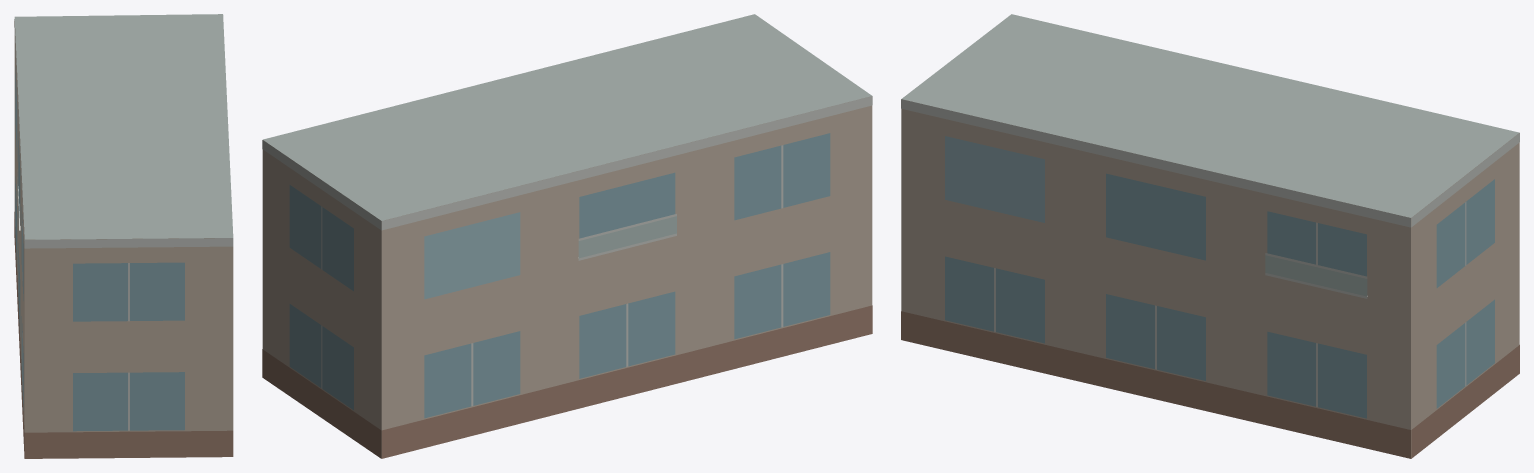
The model's file is survey-upis-32725249.glb.
The picture shows the model from 3 angles, left to right: view 1: azimuth 30°, elevation 25°; view 2: azimuth 150°, elevation 25°; view 3: azimuth 270°, elevation 25°; orthographic projection. The views are drawn at different scales.
Parts seen in each view (by area): view 1: survey-upis-32725249.tmp; view 2: survey-upis-32725249.tmp; view 3: survey-upis-32725249.tmp.
Boxes of the visible parts, bbox=[...] form: survey-upis-32725249.tmp: bbox=[14, 14, 233, 458]; survey-upis-32725249.tmp: bbox=[262, 14, 872, 458]; survey-upis-32725249.tmp: bbox=[901, 14, 1519, 458].
Bounding box in the file's own units: 11.09 × 6.1 × 14.2.
